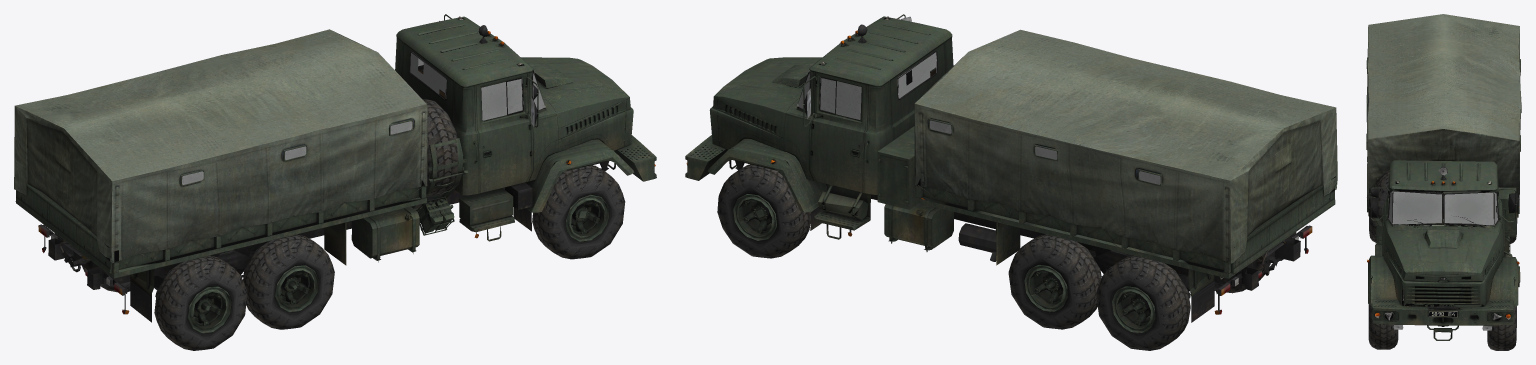
The model's file is Kraz_6322_L.fbx.
3 renders of one model, left to right at view 1: azimuth 30°, elevation 25°; view 2: azimuth 150°, elevation 25°; view 3: azimuth 270°, elevation 25°, orthographic. The views are drawn at different scales.
Parts seen in each view (by area): view 1: Chassis, Roue_02, Roue_01, Roue_Droite_01; view 2: Chassis, Roue_02, Roue_01, Roue_Gauche_01; view 3: Chassis, Roue_Droite_01, Roue_Gauche_01, Roue_01.
Part boxes in pixels (x1,y1,x2,y2): Chassis: (14,14,656,322); Roue_02: (81,255,247,350); Roue_01: (243,234,334,329); Roue_Droite_01: (532,165,625,259); Chassis: (685,14,1337,322); Roue_02: (1096,255,1270,350); Roue_01: (1008,234,1101,329); Roue_Gauche_01: (717,164,810,258); Chassis: (1366,14,1521,340); Roue_Droite_01: (1368,304,1398,349); Roue_Gauche_01: (1487,306,1516,350); Roue_01: (1369,216,1517,243).
Size of the model in its own units: 6.86 by 2.22 by 2.53.
Materials: 2 (2 with a texture image).
